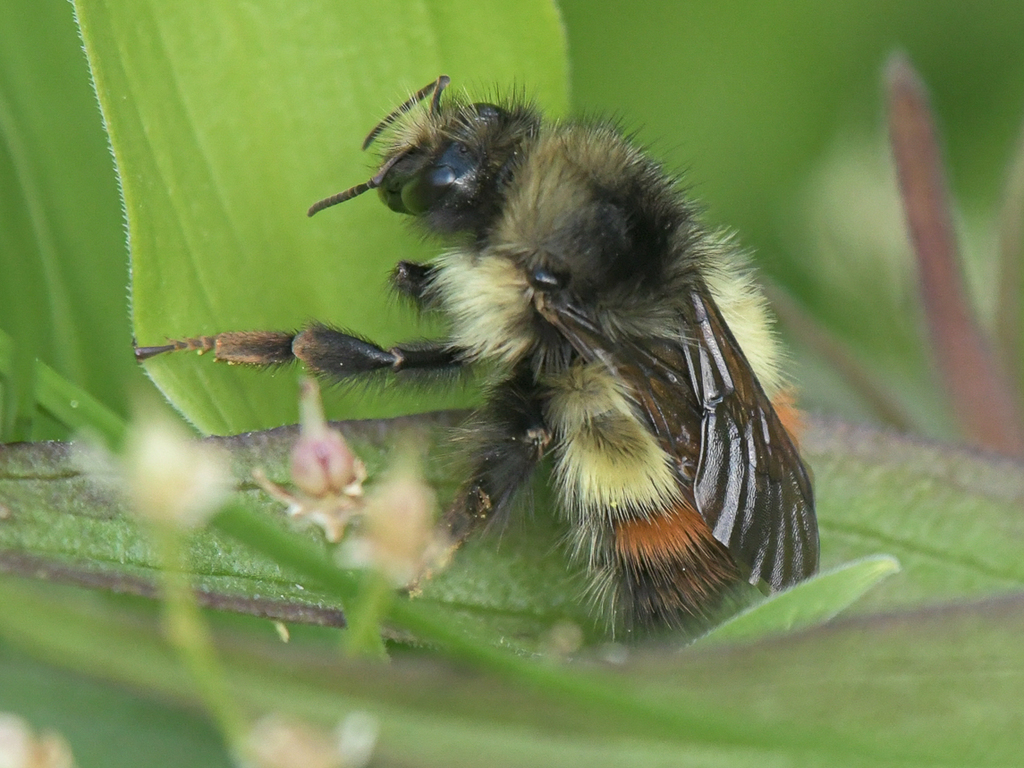bumblebee: (132, 73, 824, 646)
